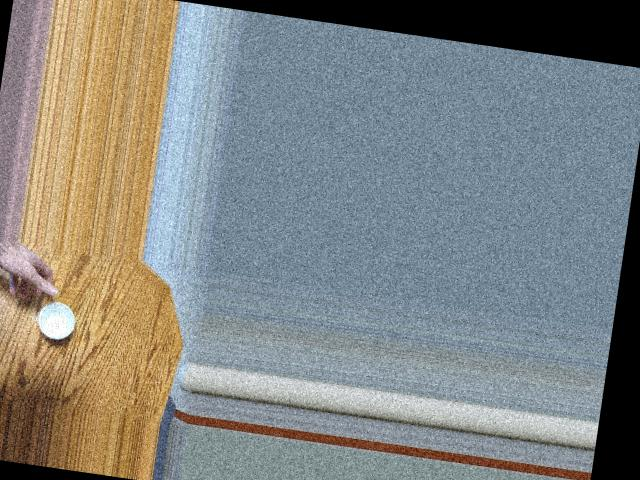cotage: (25, 295, 86, 349)
